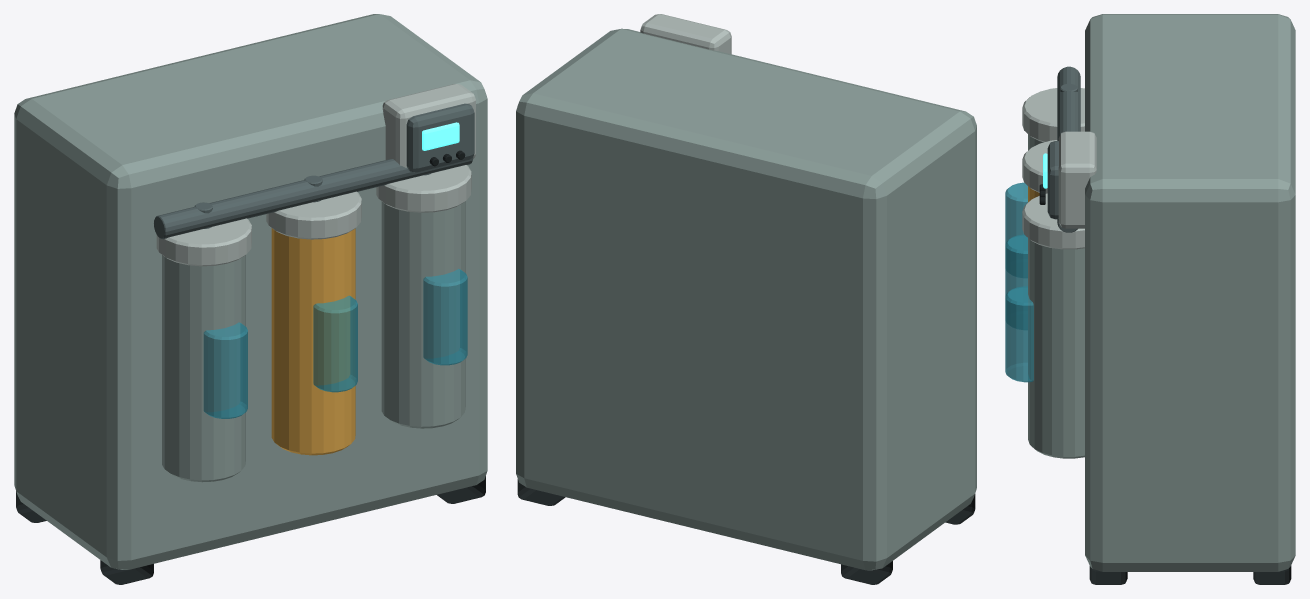
Rendered from Bloc de filtration et circulation.glb.
The picture shows the model from 3 angles, left to right: view 1: azimuth 30°, elevation 25°; view 2: azimuth 150°, elevation 25°; view 3: azimuth 270°, elevation 25°; orthographic projection. The views are drawn at different scales.
Parts seen in each view (by area): view 1: 13_filtration_pump_block_Cabinet, 13_filtration_pump_block_Filter_2, 13_filtration_pump_block_Filter_3, 13_filtration_pump_block_Filter_1, 13_filtration_pump_block_Connected_Header, 13_filtration_pump_block_Fluid_Band_3, 13_filtration_pump_block_Fluid_Band_2, 13_filtration_pump_block_Fluid_Band_1, 13_filtration_pump_block_Filter_Cap_1, 13_filtration_pump_block_Filter_Cap_3, 13_filtration_pump_block_Filter_Cap_2, 13_filtration_pump_block_Control_Mounting_Plate (+4 smaller); view 2: 13_filtration_pump_block_Cabinet, 13_filtration_pump_block_Control_Mounting_Plate, 13_filtration_pump_block_Foot_-1_1, 13_filtration_pump_block_Foot_1_1; view 3: 13_filtration_pump_block_Cabinet, 13_filtration_pump_block_Filter_3, 13_filtration_pump_block_Control_Mounting_Plate, 13_filtration_pump_block_Fluid_Band_3, 13_filtration_pump_block_Filter_Cap_3, 13_filtration_pump_block_Filter_Cap_1, 13_filtration_pump_block_Connected_Header, 13_filtration_pump_block_Fluid_Band_2, 13_filtration_pump_block_Fluid_Band_1, 13_filtration_pump_block_Filter_Cap_2, 13_filtration_pump_block_Control_Housing, 13_filtration_pump_block_Foot_1_1 (+1 smaller).
Part boxes in pixels (x1,y1,x2,y2): 13_filtration_pump_block_Cabinet: (14, 14, 487, 569); 13_filtration_pump_block_Filter_2: (271, 228, 355, 455); 13_filtration_pump_block_Filter_3: (381, 201, 465, 428); 13_filtration_pump_block_Filter_1: (162, 255, 245, 482); 13_filtration_pump_block_Connected_Header: (154, 157, 473, 239); 13_filtration_pump_block_Fluid_Band_3: (423, 268, 467, 365); 13_filtration_pump_block_Fluid_Band_2: (313, 295, 357, 392); 13_filtration_pump_block_Fluid_Band_1: (203, 322, 247, 418); 13_filtration_pump_block_Filter_Cap_1: (156, 218, 251, 266); 13_filtration_pump_block_Filter_Cap_3: (376, 165, 471, 212); 13_filtration_pump_block_Filter_Cap_2: (266, 191, 361, 239); 13_filtration_pump_block_Control_Mounting_Plate: (382, 84, 475, 167); 13_filtration_pump_block_Cabinet: (516, 28, 976, 570); 13_filtration_pump_block_Control_Mounting_Plate: (640, 14, 731, 54); 13_filtration_pump_block_Foot_-1_1: (841, 561, 892, 584); 13_filtration_pump_block_Foot_1_1: (517, 479, 565, 505); 13_filtration_pump_block_Cabinet: (1085, 14, 1295, 571); 13_filtration_pump_block_Filter_3: (1028, 238, 1084, 458); 13_filtration_pump_block_Control_Mounting_Plate: (1058, 131, 1096, 228); 13_filtration_pump_block_Fluid_Band_3: (1005, 286, 1033, 382); 13_filtration_pump_block_Filter_Cap_3: (1022, 193, 1084, 249); 13_filtration_pump_block_Filter_Cap_1: (1022, 88, 1084, 142); 13_filtration_pump_block_Connected_Header: (1057, 66, 1080, 232); 13_filtration_pump_block_Fluid_Band_2: (1005, 234, 1027, 295); 13_filtration_pump_block_Fluid_Band_1: (1005, 182, 1027, 244); 13_filtration_pump_block_Filter_Cap_2: (1022, 140, 1057, 193); 13_filtration_pump_block_Control_Housing: (1047, 141, 1058, 219); 13_filtration_pump_block_Foot_1_1: (1253, 565, 1291, 584).
Bounding box in the file's own units: 1.45 × 1.54 × 0.993.
